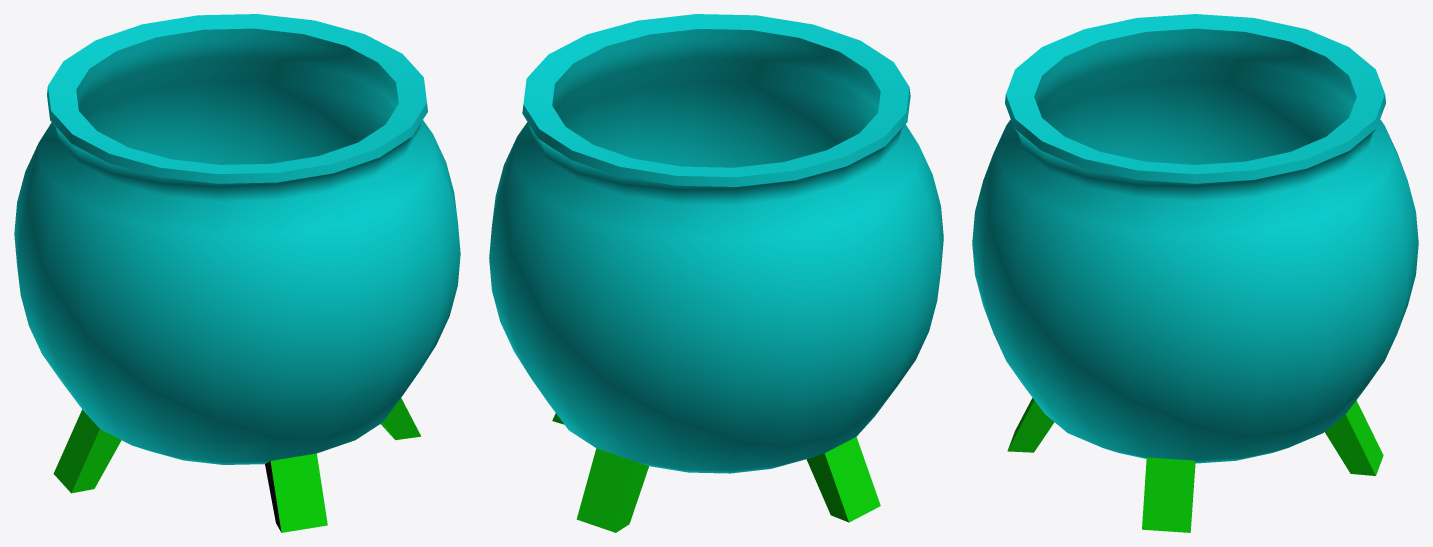
File: Cauldron.fbx
The picture shows the model from 3 angles, left to right: view 1: azimuth 30°, elevation 25°; view 2: azimuth 150°, elevation 25°; view 3: azimuth 270°, elevation 25°; orthographic projection. The views are drawn at different scales.
Visible parts, largest first — view 1: cauldron; view 2: cauldron; view 3: cauldron.
Boxes of the visible parts, bbox=[...] form: cauldron: bbox=[14, 14, 460, 532]; cauldron: bbox=[489, 14, 943, 532]; cauldron: bbox=[972, 14, 1418, 532].
Size of the model in its own units: 0.8552 by 0.762 by 0.8552.
